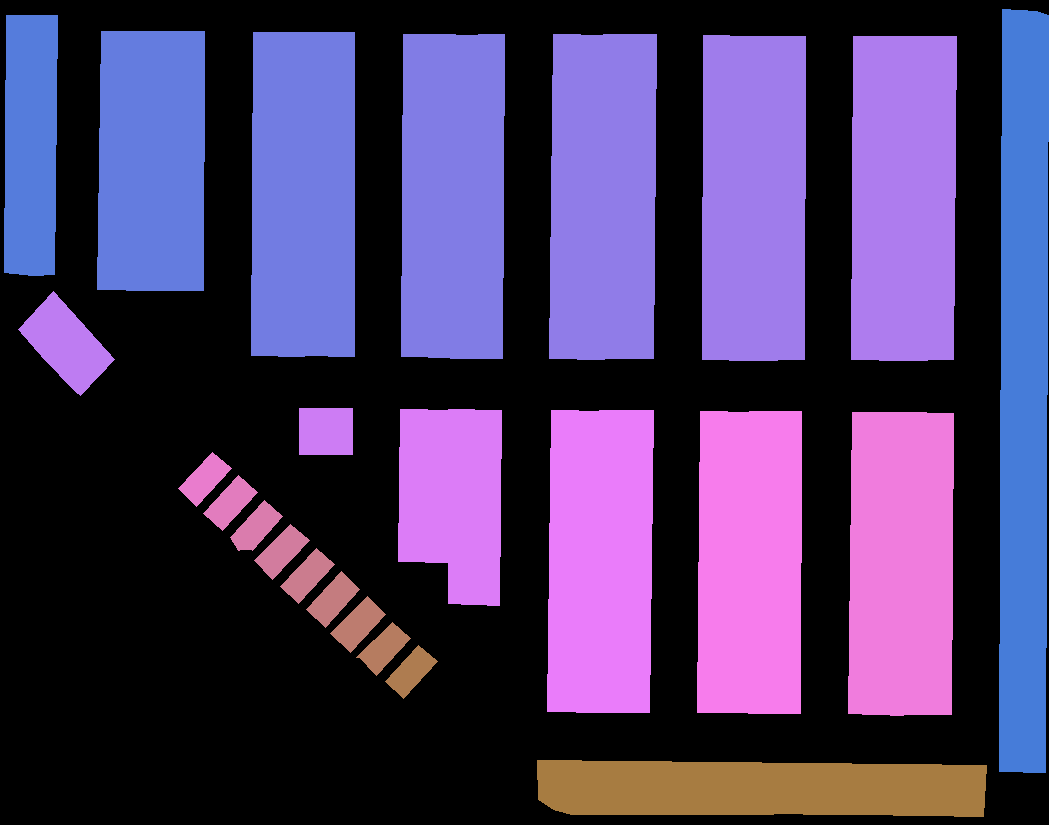parkingspot: (999, 9, 1048, 772), (537, 760, 986, 816), (549, 34, 607, 359), (851, 36, 908, 360), (600, 34, 656, 358), (251, 32, 306, 356), (750, 36, 805, 360), (901, 36, 956, 360), (848, 412, 906, 715), (702, 35, 756, 360), (547, 410, 605, 712), (300, 32, 354, 356), (450, 34, 504, 358), (697, 411, 755, 712), (401, 34, 455, 357), (599, 410, 653, 712), (899, 412, 953, 714), (748, 411, 801, 713), (97, 31, 156, 290), (149, 31, 204, 290), (4, 15, 57, 275), (448, 409, 501, 605), (18, 291, 114, 395), (398, 409, 454, 562), (330, 596, 385, 652), (254, 524, 309, 579), (280, 548, 334, 603), (203, 475, 257, 530), (306, 571, 359, 627), (356, 622, 410, 675), (178, 452, 231, 506), (385, 645, 437, 698), (230, 500, 282, 550), (299, 408, 352, 454)
